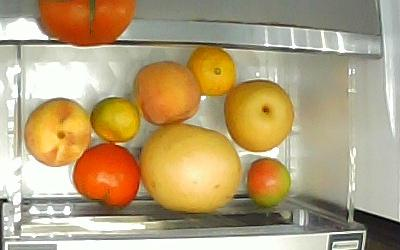peach: (22, 96, 91, 167), (132, 59, 201, 125)
pear: (137, 121, 241, 213), (223, 78, 294, 152)
tangerine: (184, 44, 235, 96), (88, 95, 140, 142)
tomato: (71, 141, 141, 209), (245, 156, 291, 207)
